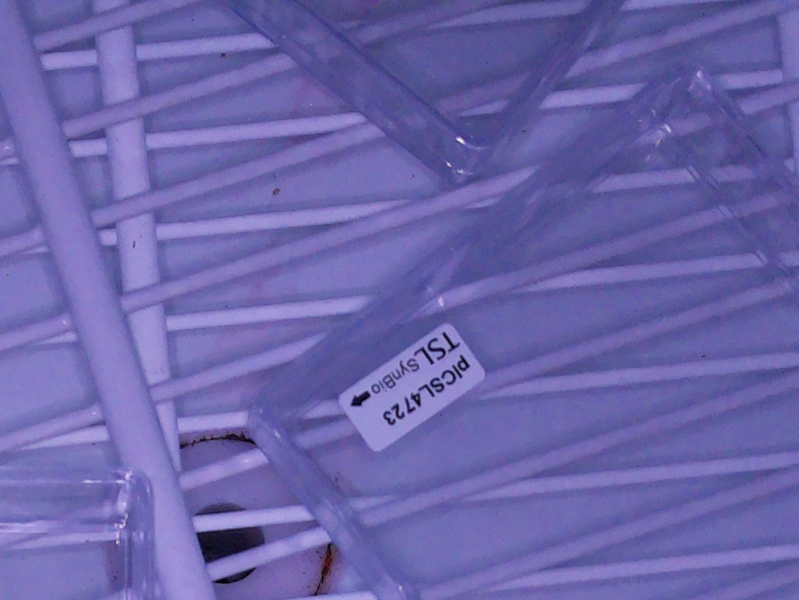plate: (242, 57, 799, 600), (213, 1, 633, 193), (1, 464, 155, 600)
